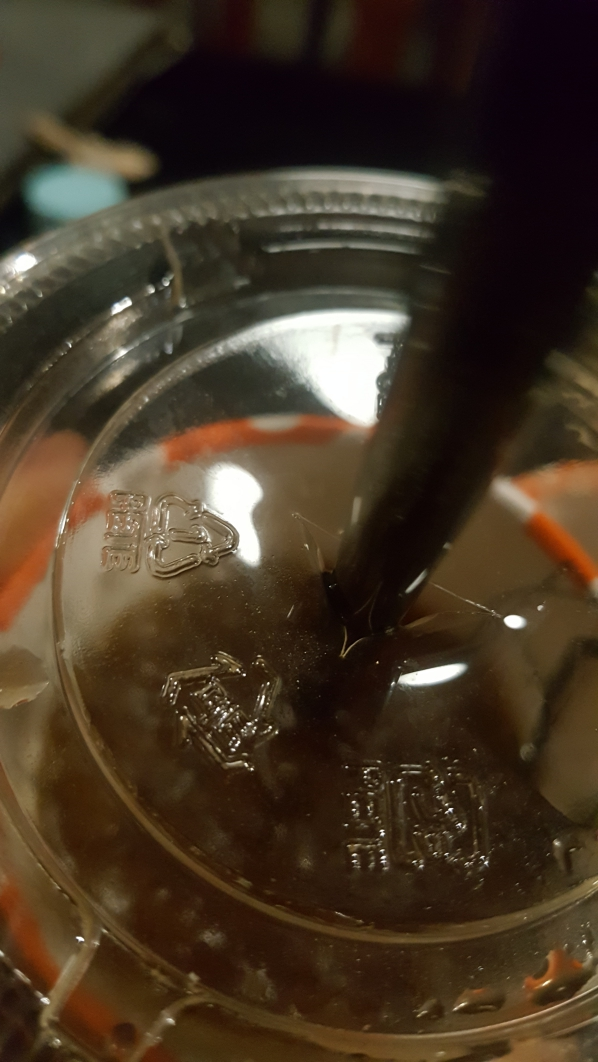recycle: (102, 482, 251, 587)
